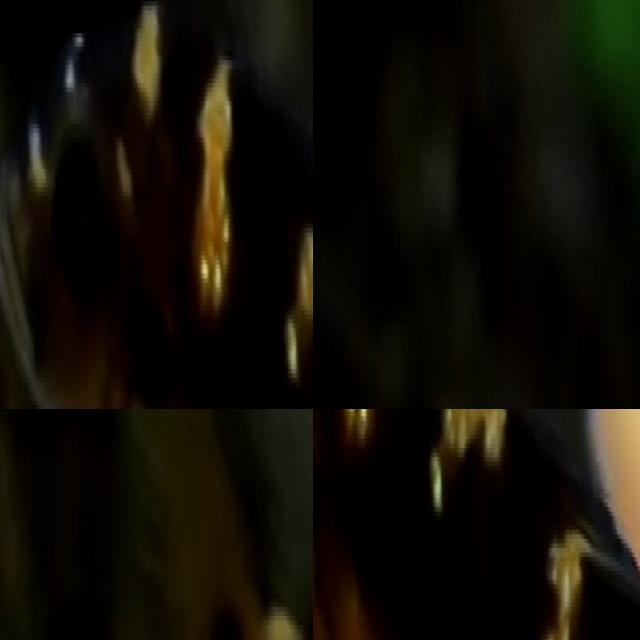fish: (0, 0, 313, 409), (564, 409, 640, 640)
